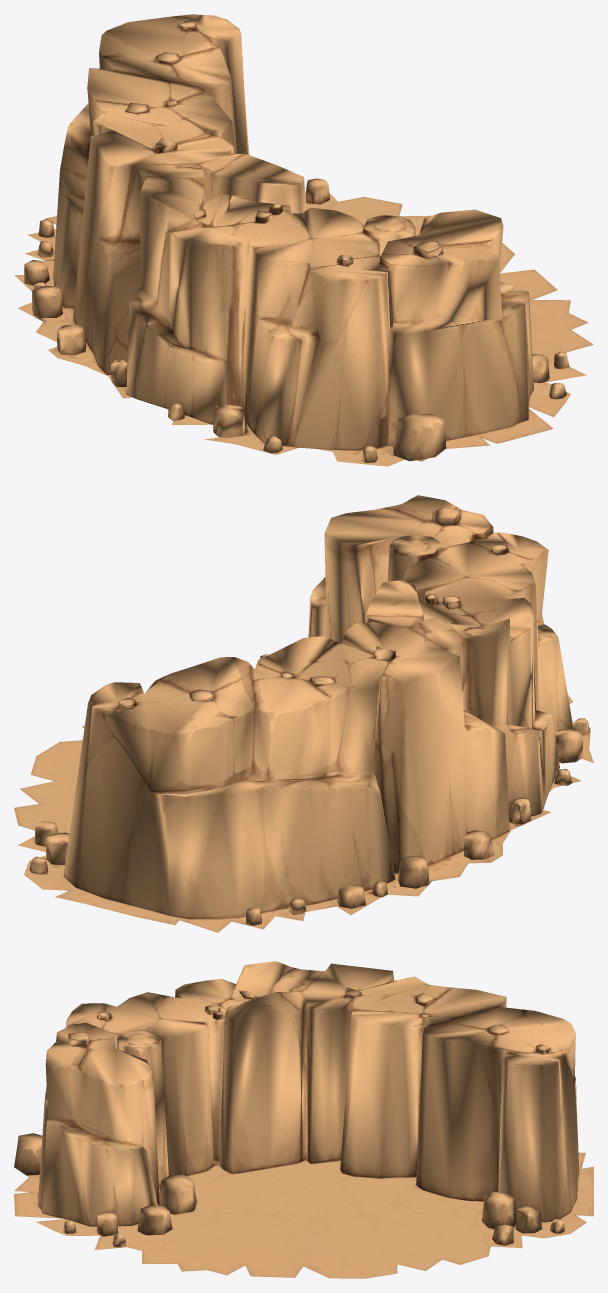
File: Meshy_AI_Desert_Stone_Cliff_Pl_0907123316_texture.fbx
3 renders of one model, top to bottom at view 1: azimuth 30°, elevation 25°; view 2: azimuth 150°, elevation 25°; view 3: azimuth 270°, elevation 25°, orthographic. The views are drawn at different scales.
Visible parts, largest first — view 1: mesh_node; view 2: mesh_node; view 3: mesh_node.
Boxes of the visible parts, bbox=[...] form: mesh_node: bbox=[14, 14, 593, 466]; mesh_node: bbox=[14, 495, 593, 932]; mesh_node: bbox=[14, 961, 593, 1278].
Size of the model in its own units: 1265 by 500 by 1695.
Materials: 1 (1 with a texture image).
